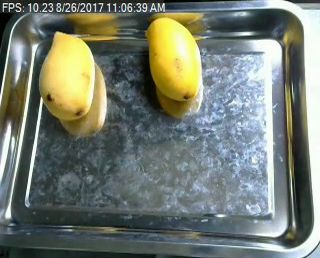Mango: (131, 13, 214, 106), (35, 30, 100, 122)
